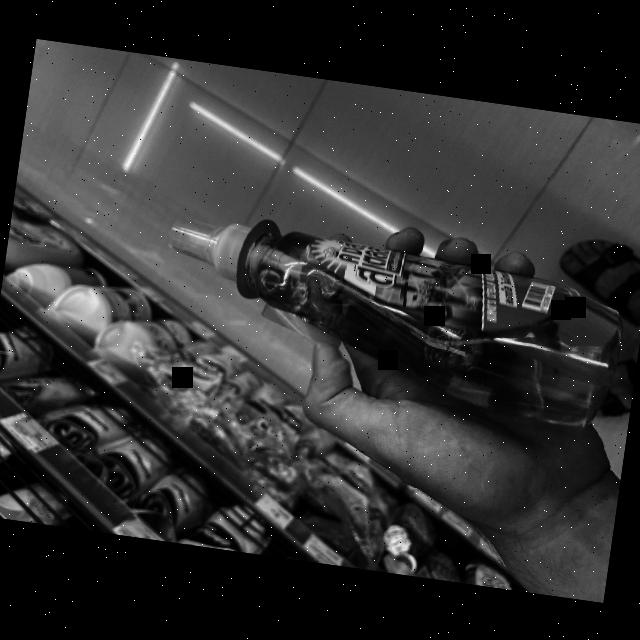chemical_plastic_bottle: (142, 209, 634, 438)
